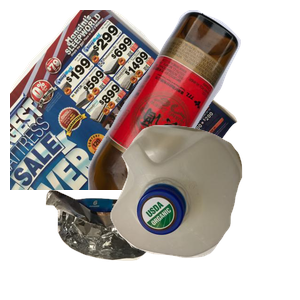glass: (85, 10, 300, 190)
paper: (10, 10, 240, 190)
plastic: (108, 123, 300, 300)
trash: (43, 187, 234, 300)
